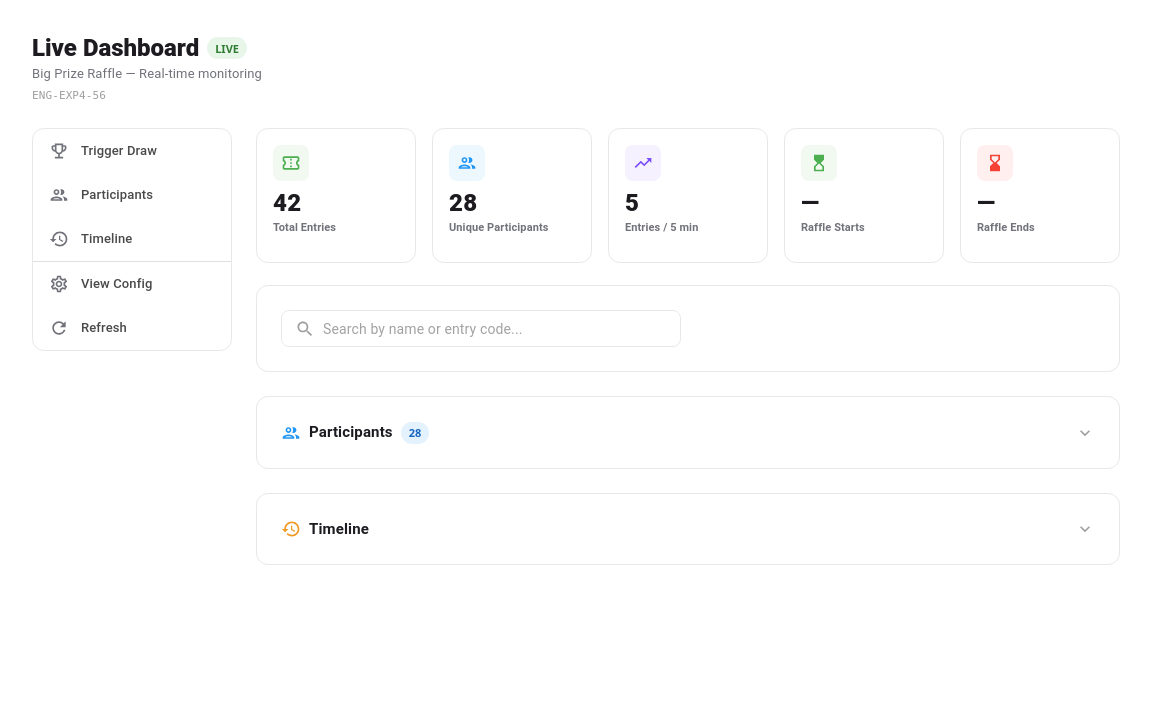
Test: RaffleLiveDashboard — Entry Search › displays search results when entries are found
Type "Jane" into the field with placeholder "Search by name or entry code..." at (491, 329), box [323,310,659,347]
Wait 500 ms
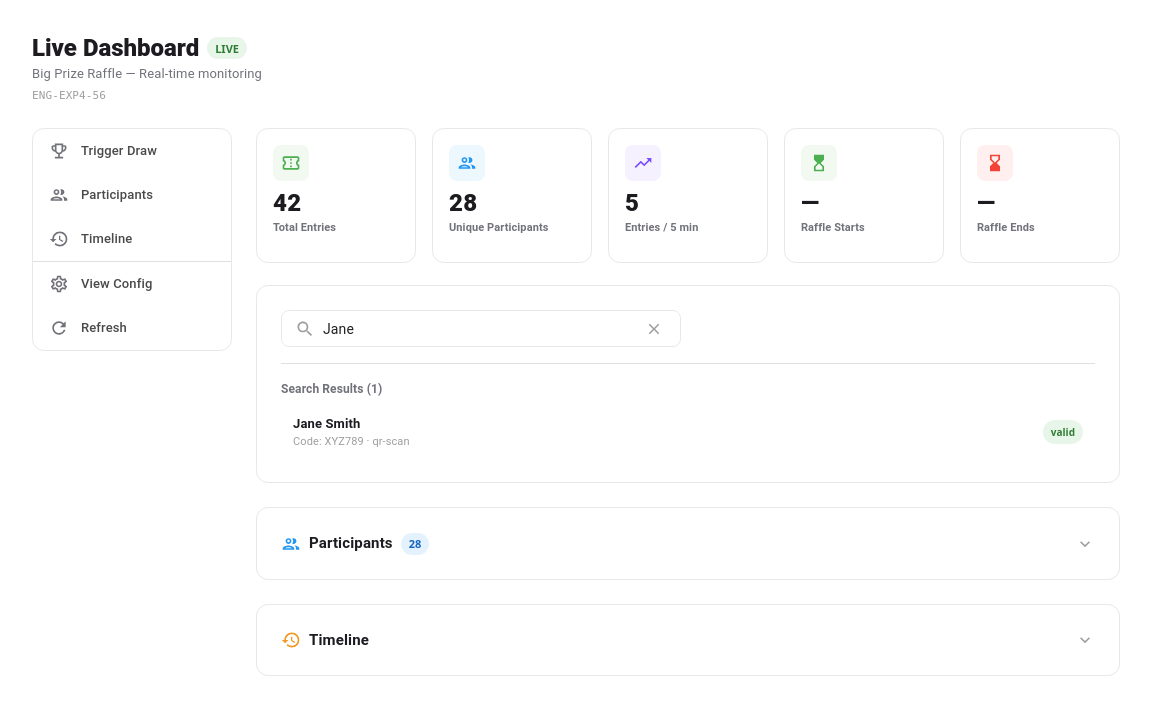
Expected: the text "Jane Smith" is shown, [293,416,360,431]
Expected: the text "Code: XYZ789 · qr-scan" is shown, [293,434,410,450]
